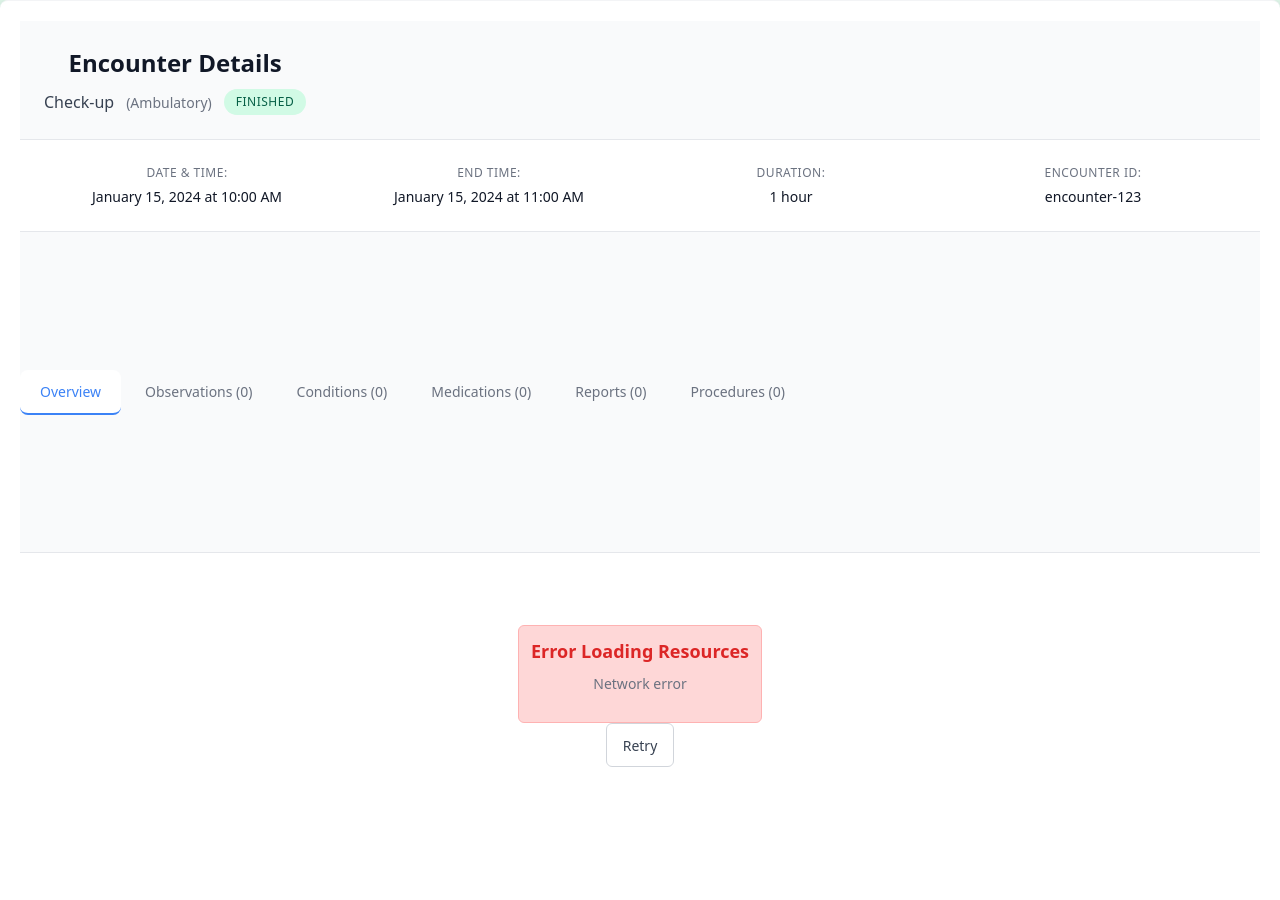
EncounterDetails › retries loading resources on error
Expected: the heading "Error Loading Resources" is shown, [531, 638, 749, 665]
# Click retry button
Step 1. Click the button "Retry" → point(640, 745), box [606, 723, 674, 767]
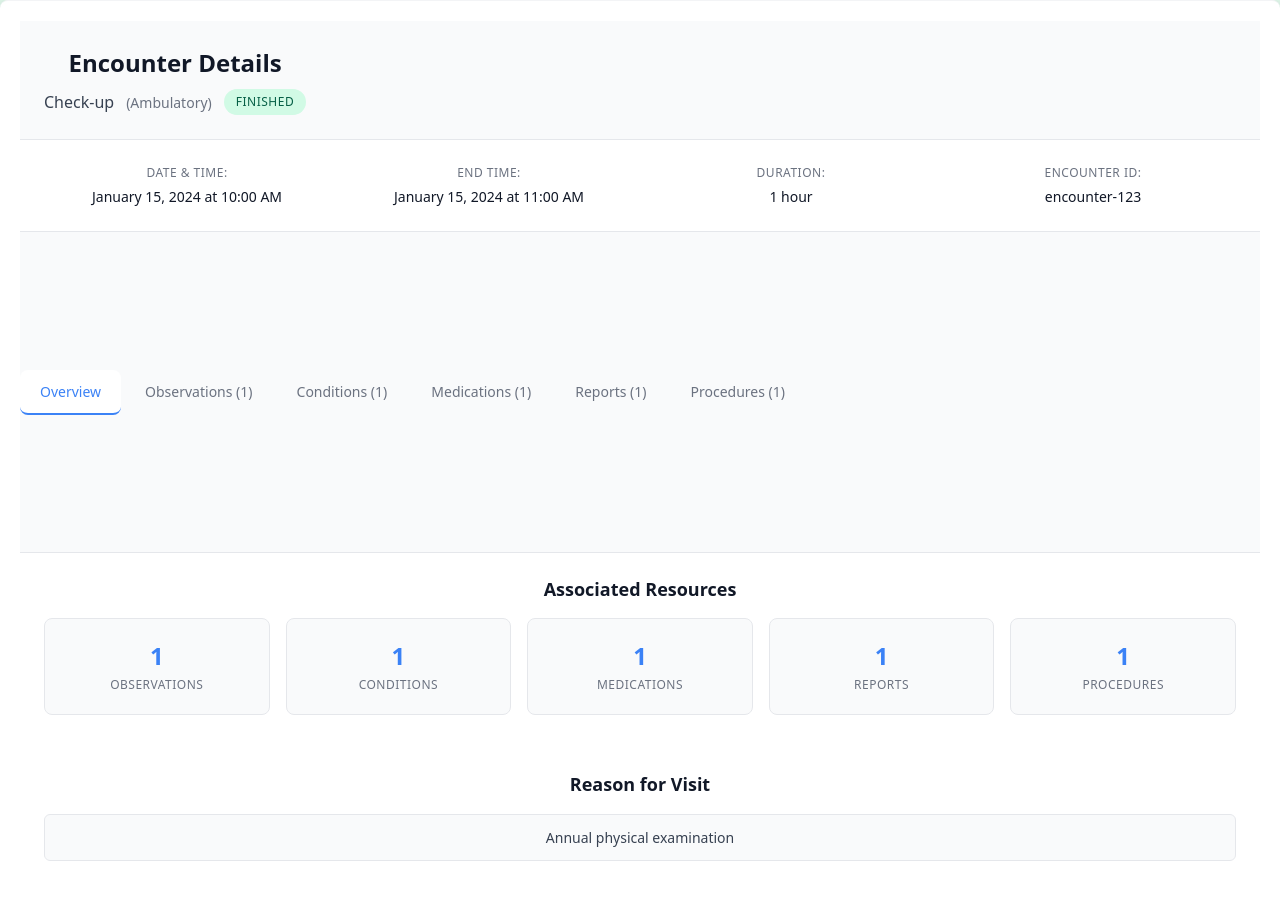
Now the button "Observations (1)" is shown, box [125, 370, 273, 414]
